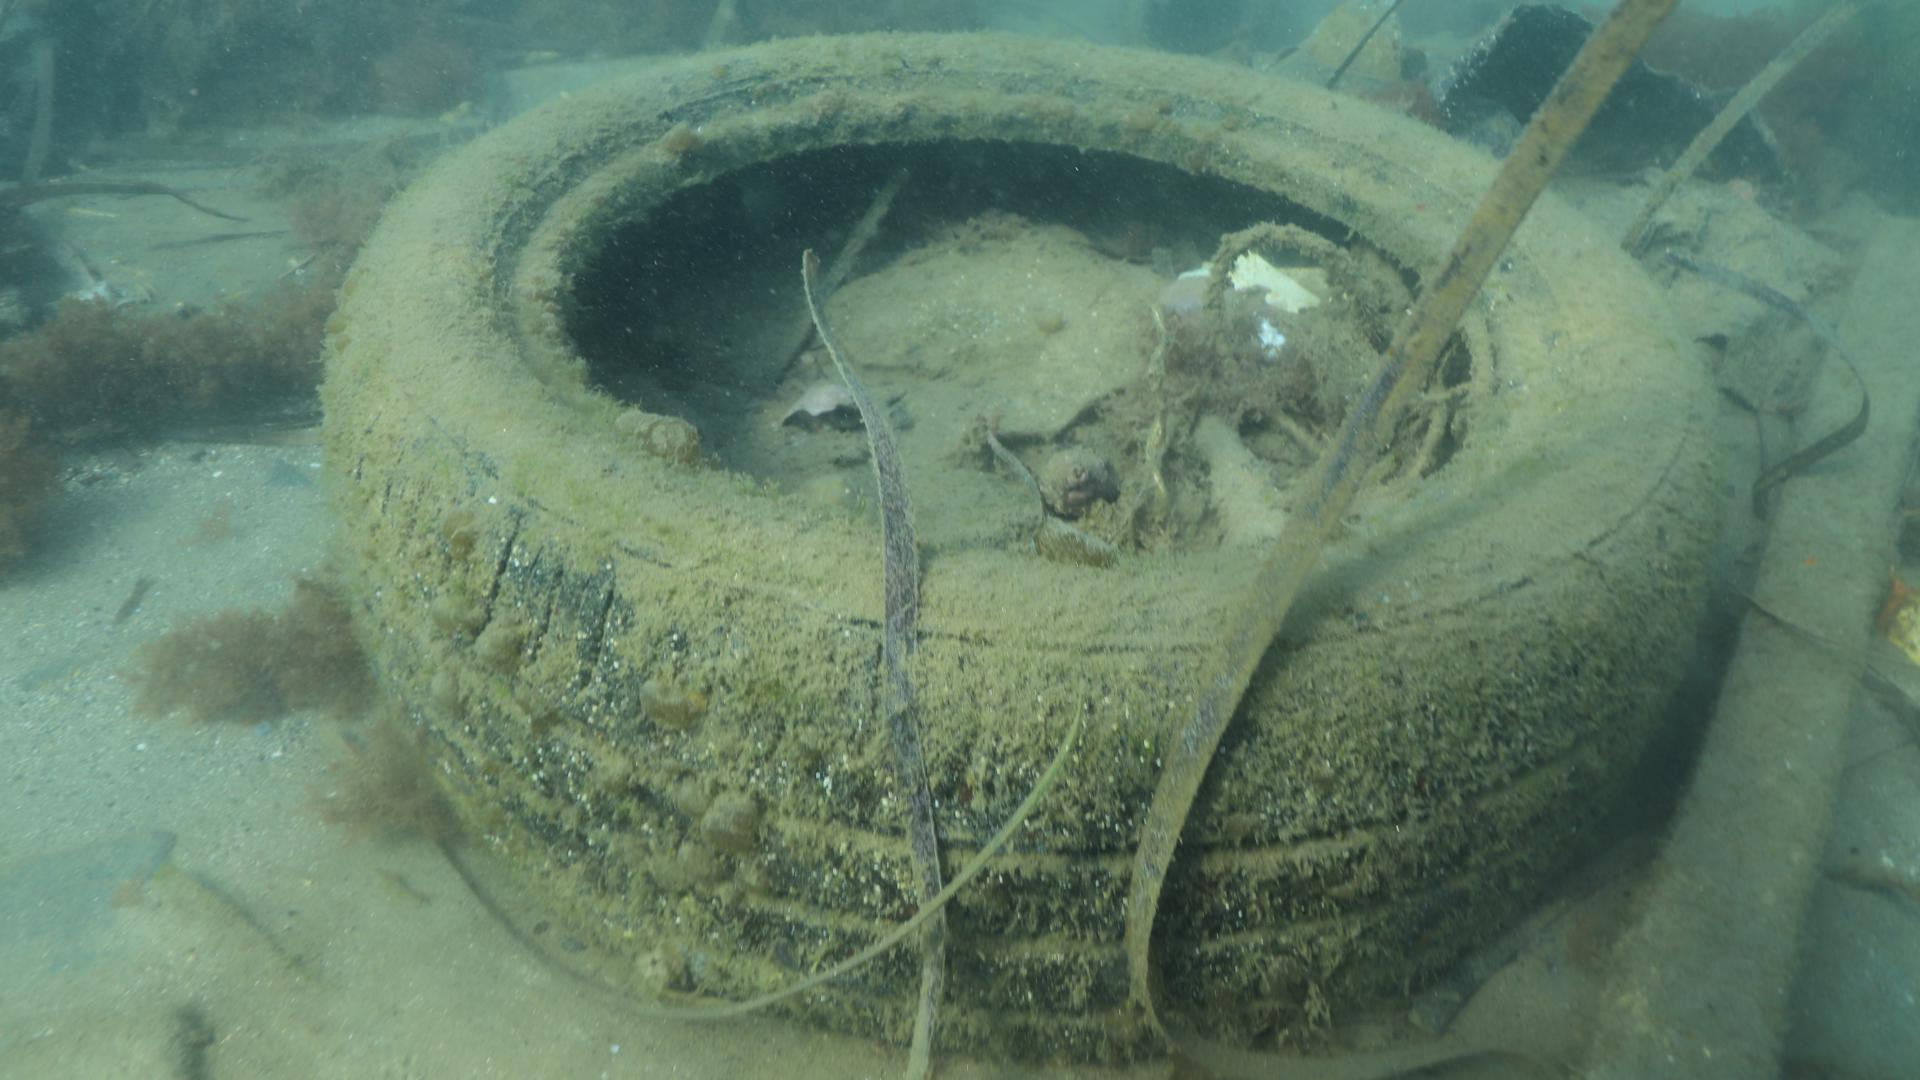tire: (320, 29, 1721, 1058)
